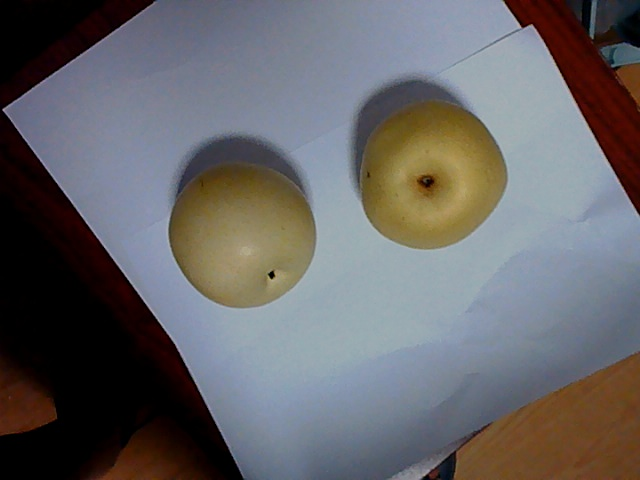pear: (361, 101, 513, 249), (173, 162, 318, 310)
